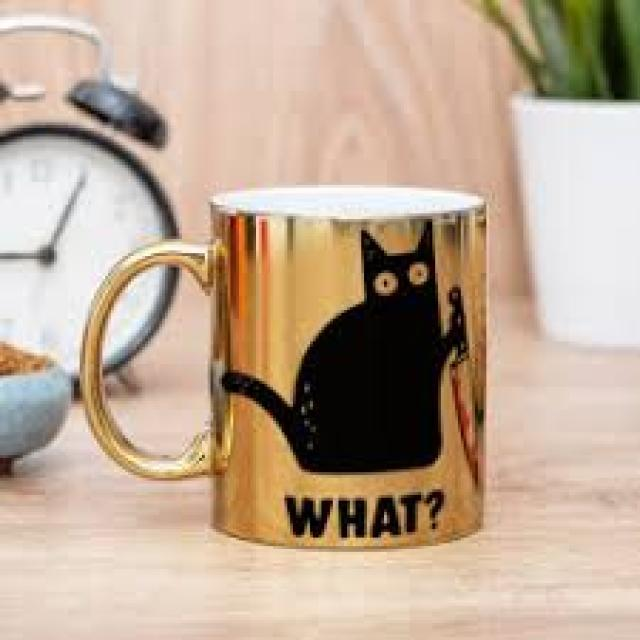taza: (82, 183, 488, 552)
